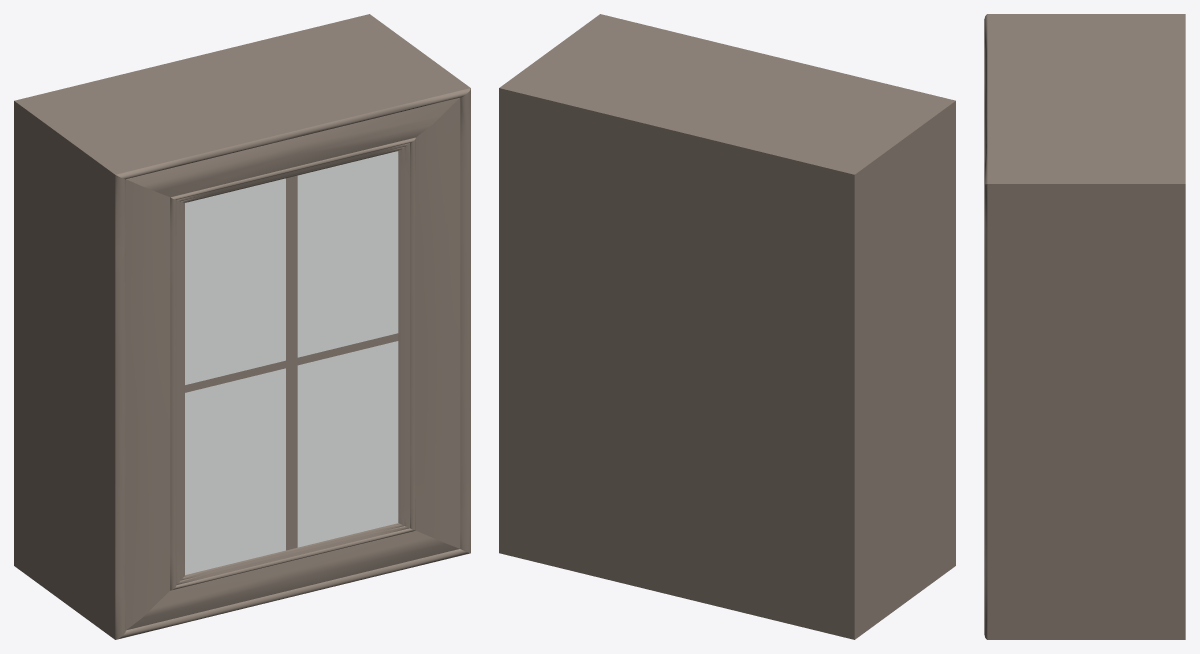
File: Wall-Cabinet-with-Doors-Prepped-for-Glass_std_001_W24in.glb
3 renders of one model, left to right at view 1: azimuth 30°, elevation 25°; view 2: azimuth 150°, elevation 25°; view 3: azimuth 270°, elevation 25°, orthographic. The views are drawn at different scales.
Parts seen in each view (by area): view 1: Wall-Cabinet-with-Doors-Prepped-for-Glass.std.001_W24in; view 2: Wall-Cabinet-with-Doors-Prepped-for-Glass.std.001_W24in; view 3: Wall-Cabinet-with-Doors-Prepped-for-Glass.std.001_W24in.
Part boxes in pixels (<box>): Wall-Cabinet-with-Doors-Prepped-for-Glass.std.001_W24in: <box>14,14,470,639</box>; Wall-Cabinet-with-Doors-Prepped-for-Glass.std.001_W24in: <box>499,14,955,639</box>; Wall-Cabinet-with-Doors-Prepped-for-Glass.std.001_W24in: <box>984,14,1185,639</box>.
Bounding box in the file's own units: 0.6096 × 0.762 × 0.3048.
